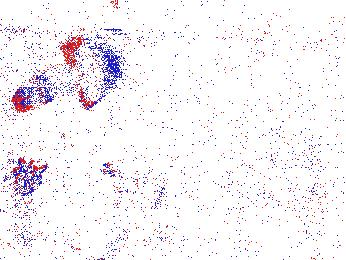flame jellyfish: (11, 39, 118, 112), (99, 162, 164, 218), (1, 158, 53, 221)
